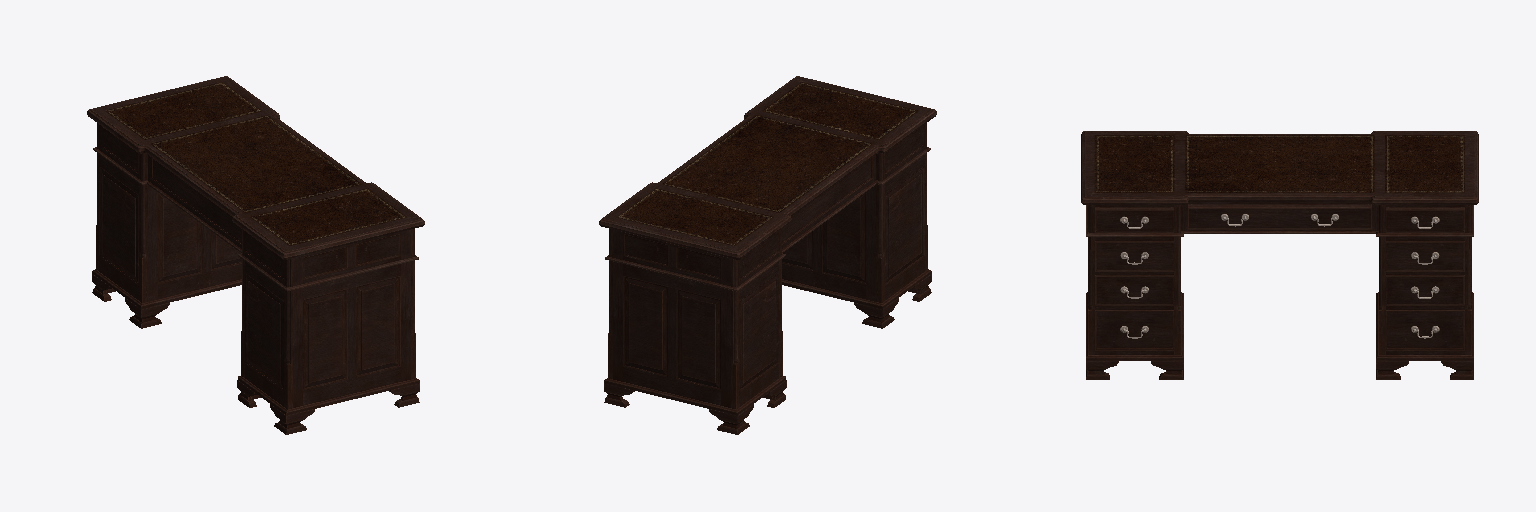
3 views of the same model, side by side, from view 1: azimuth 30°, elevation 25°; view 2: azimuth 150°, elevation 25°; view 3: azimuth 270°, elevation 25° (orthographic).
Visible parts, largest first — view 1: Desk_low_Desk_0; view 2: Desk_low_Desk_0; view 3: Desk_low_Desk_0, Draw_2_low_Desk_0, Draw_1_low_Desk_0, Draw_3_low_Desk_0.
Boxes of the visible parts, x1=… form: Desk_low_Desk_0: x1=87, y1=76, x2=424, y2=434; Desk_low_Desk_0: x1=599, y1=76, x2=936, y2=434; Desk_low_Desk_0: x1=1081, y1=131, x2=1478, y2=379; Draw_2_low_Desk_0: x1=1188, y1=204, x2=1371, y2=229; Draw_1_low_Desk_0: x1=1095, y1=207, x2=1173, y2=232; Draw_3_low_Desk_0: x1=1386, y1=207, x2=1464, y2=232.
Size of the model in its own units: 3.99 by 4.94 by 9.71.
Materials: 1 (1 with a texture image).